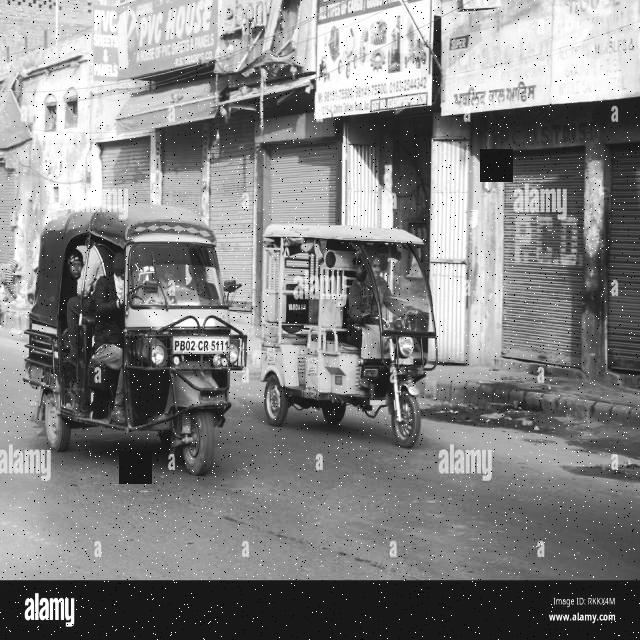Auto-Rickshaw: (24, 198, 256, 500), (243, 215, 455, 444)
